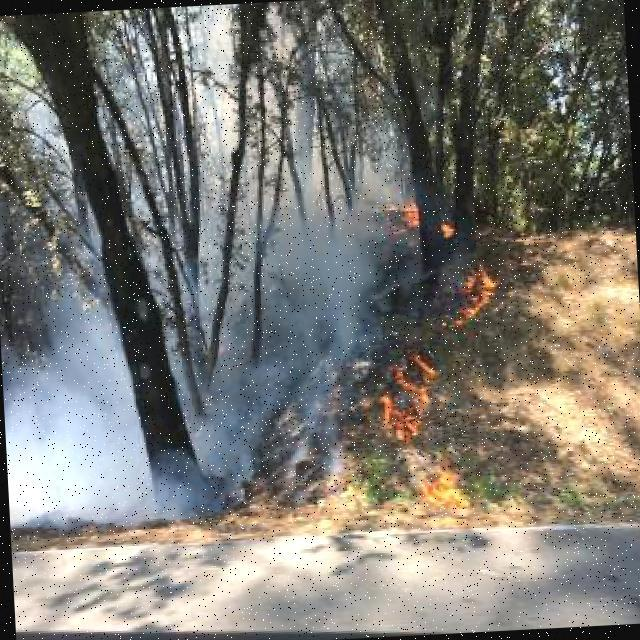Fire: (374, 351, 468, 515), (439, 255, 505, 332), (396, 202, 427, 232)
Smoke: (202, 195, 391, 528), (2, 264, 217, 532)
